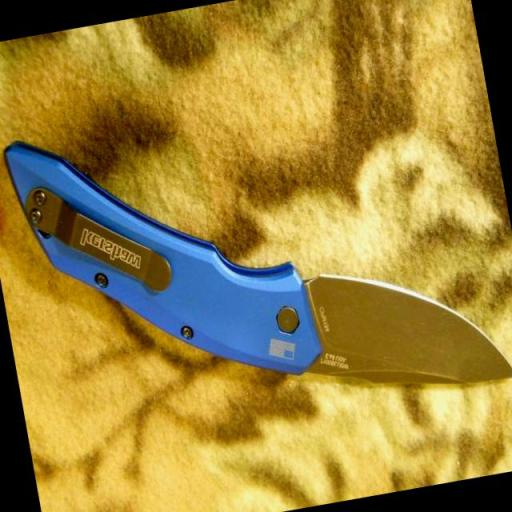knife: (280, 241, 512, 421)
